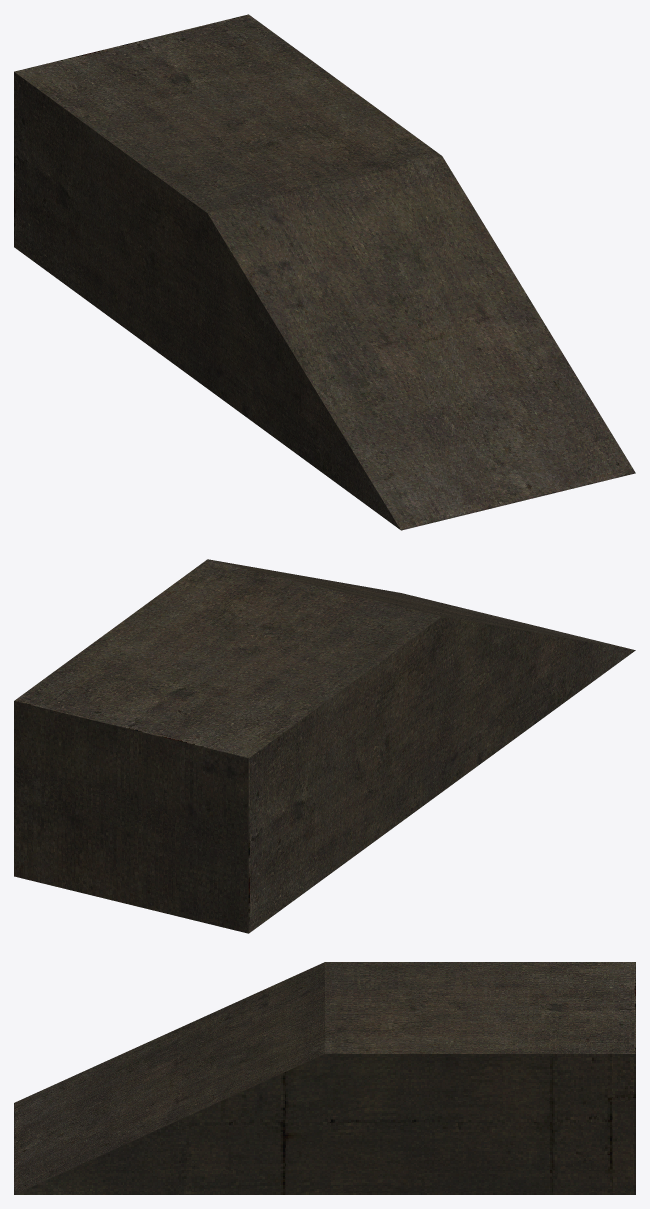
File: ramp_platform_slim_mx_1.glb
The picture shows the model from 3 angles, top to bottom: view 1: azimuth 30°, elevation 25°; view 2: azimuth 150°, elevation 25°; view 3: azimuth 270°, elevation 25°; orthographic projection. The views are drawn at different scales.
Parts seen in each view (by area): view 1: ramp_platform_slim_mx_1; view 2: ramp_platform_slim_mx_1; view 3: ramp_platform_slim_mx_1.
Part boxes in pixels (x1,y1,x2,y2): ramp_platform_slim_mx_1: (14,14,635,530); ramp_platform_slim_mx_1: (14,559,635,933); ramp_platform_slim_mx_1: (14,962,635,1194).
Size of the model in its own units: 1.4 by 1 by 4.
Materials: 2 (2 with a texture image).
